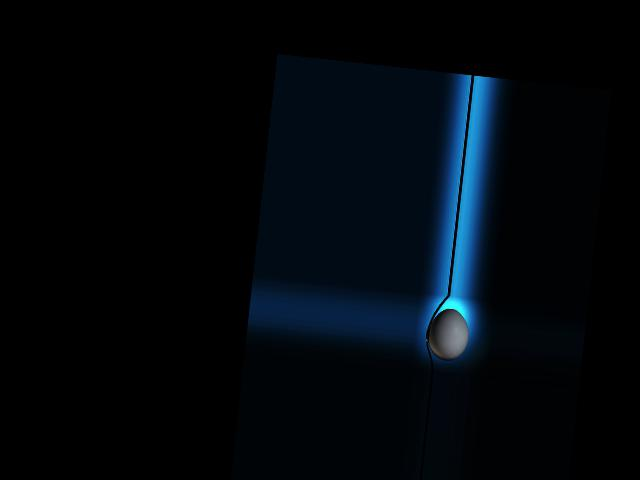egg: (426, 307, 470, 362)
